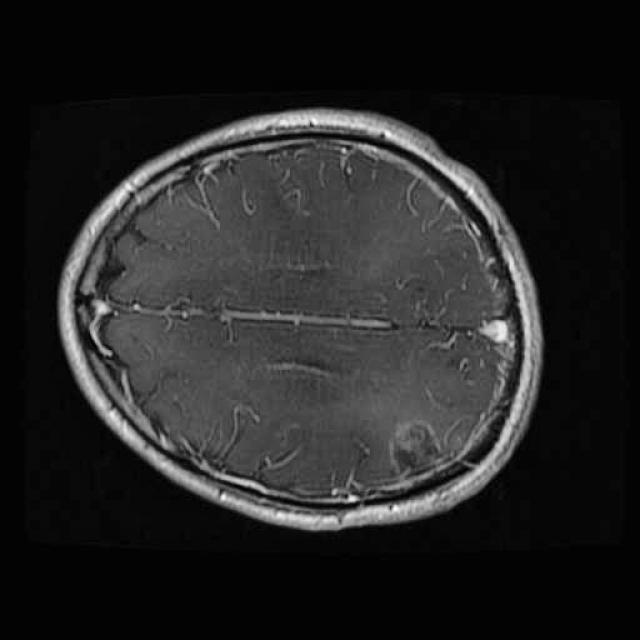Non-Tumor: (379, 410, 454, 485)
